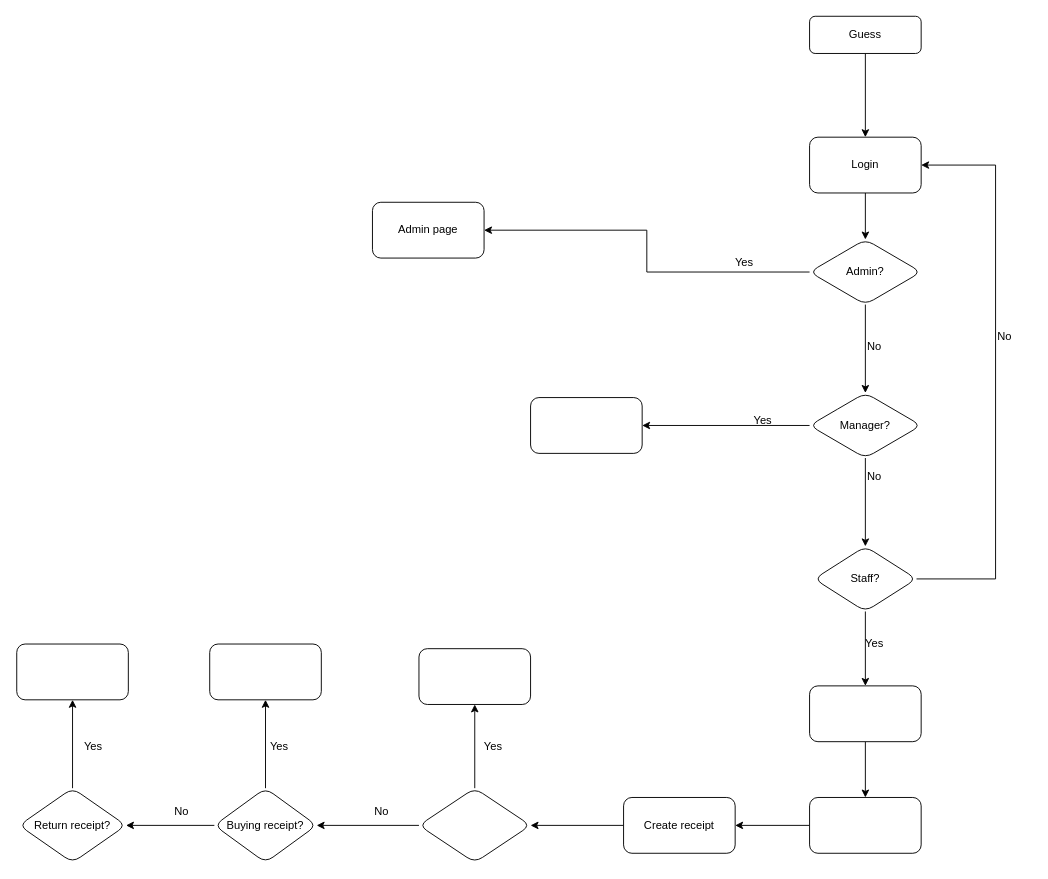
Image size: 1048x879. Some labels were removed from this diagram. The centre of each missing label's shape, as x and y in pixels:
"Manager page" belongs at (586,425).
"Selling receipt?" belongs at (474,825).
"Staff page" belongs at (865,713).
"Take order" belongs at (865,825).
